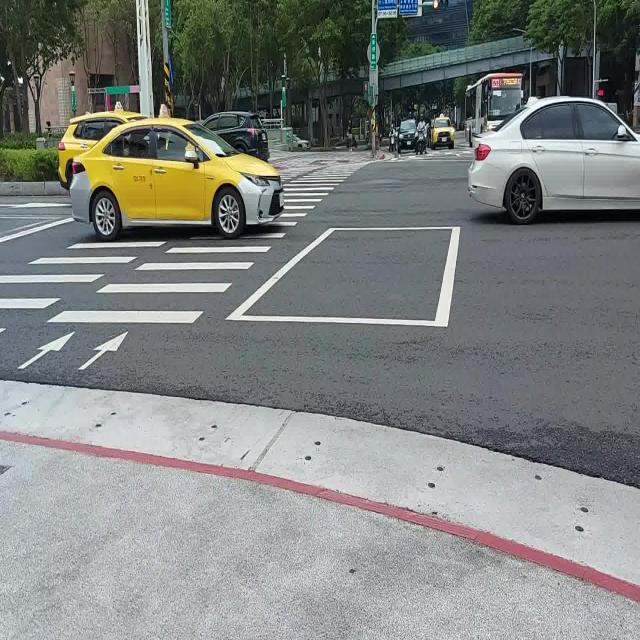bus: (465, 71, 522, 142)
car: (70, 118, 284, 240), (468, 98, 640, 224), (59, 109, 140, 189), (201, 111, 269, 160), (430, 116, 454, 149), (398, 120, 416, 153), (389, 127, 396, 150)
crosswalk: (0, 176, 344, 327)
motocycle: (415, 118, 428, 156)
